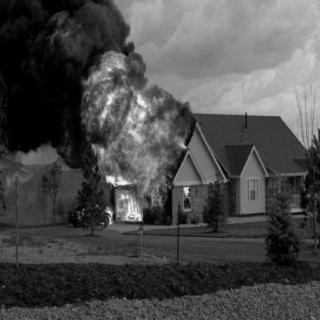Fire: (52, 14, 192, 224)
Smoke: (0, 1, 134, 153)
